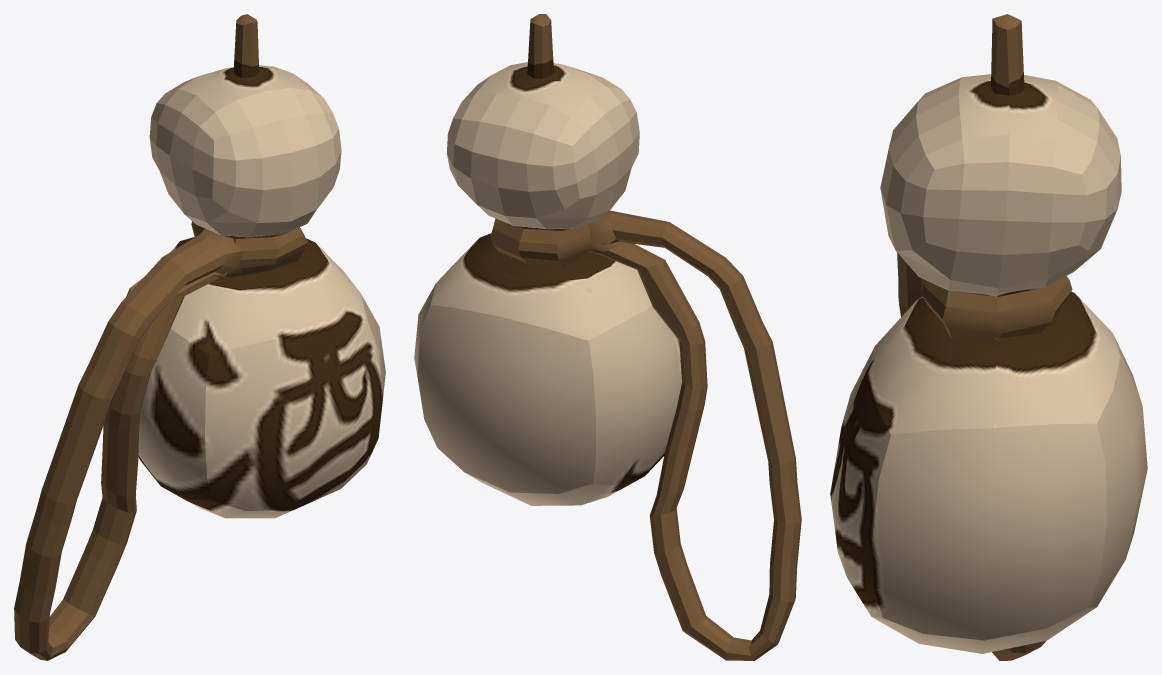
File: Sake.FBX
3 renders of one model, left to right at view 1: azimuth 30°, elevation 25°; view 2: azimuth 150°, elevation 25°; view 3: azimuth 270°, elevation 25°, orthographic. The views are drawn at different scales.
Visible parts, largest first — view 1: Sake; view 2: Sake; view 3: Sake.
Part boxes in pixels (x1,y1,x2,y2): Sake: (14,14,385,660); Sake: (414,14,801,660); Sake: (830,14,1147,660).
Size of the model in its own units: 52.5 by 83.81 by 31.5.
